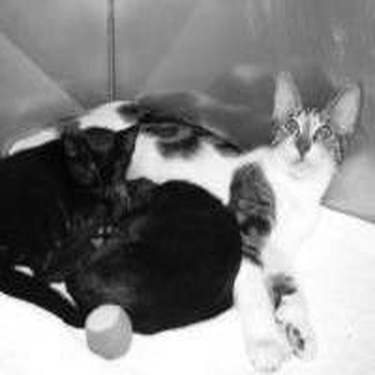cat: (3, 67, 365, 352), (47, 181, 248, 320), (9, 105, 132, 230)
